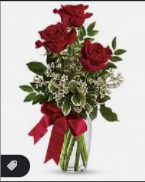RedRose: (31, 22, 77, 54), (79, 38, 115, 71), (52, 0, 91, 26)
